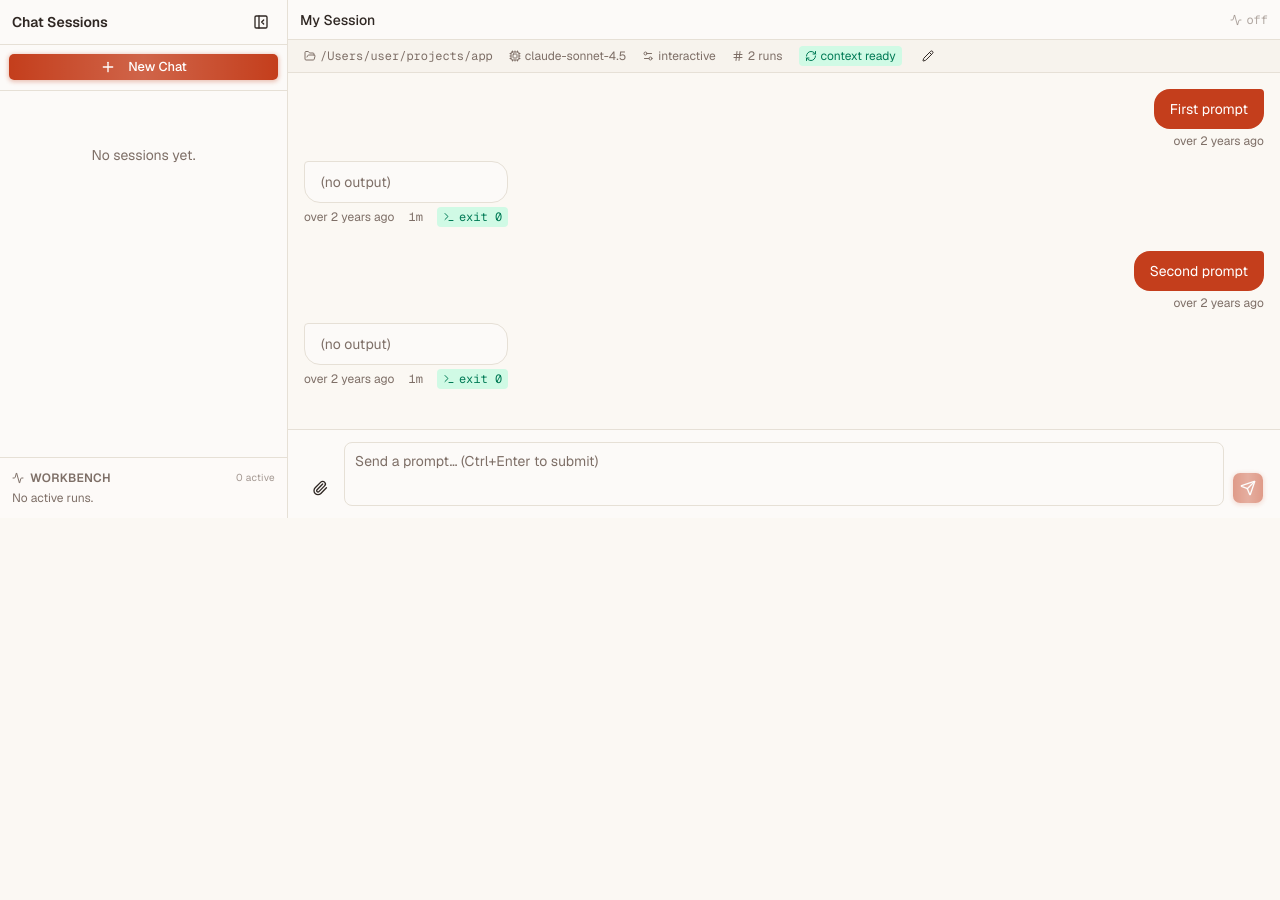
SessionCreateDialog — host picker › shows the Add host form when the add-host button is clicked
The image size is (1280, 900).
Click the button with aria-label "New chat session".
click(144, 67)  # box left=8, top=53, right=279, bottom=81
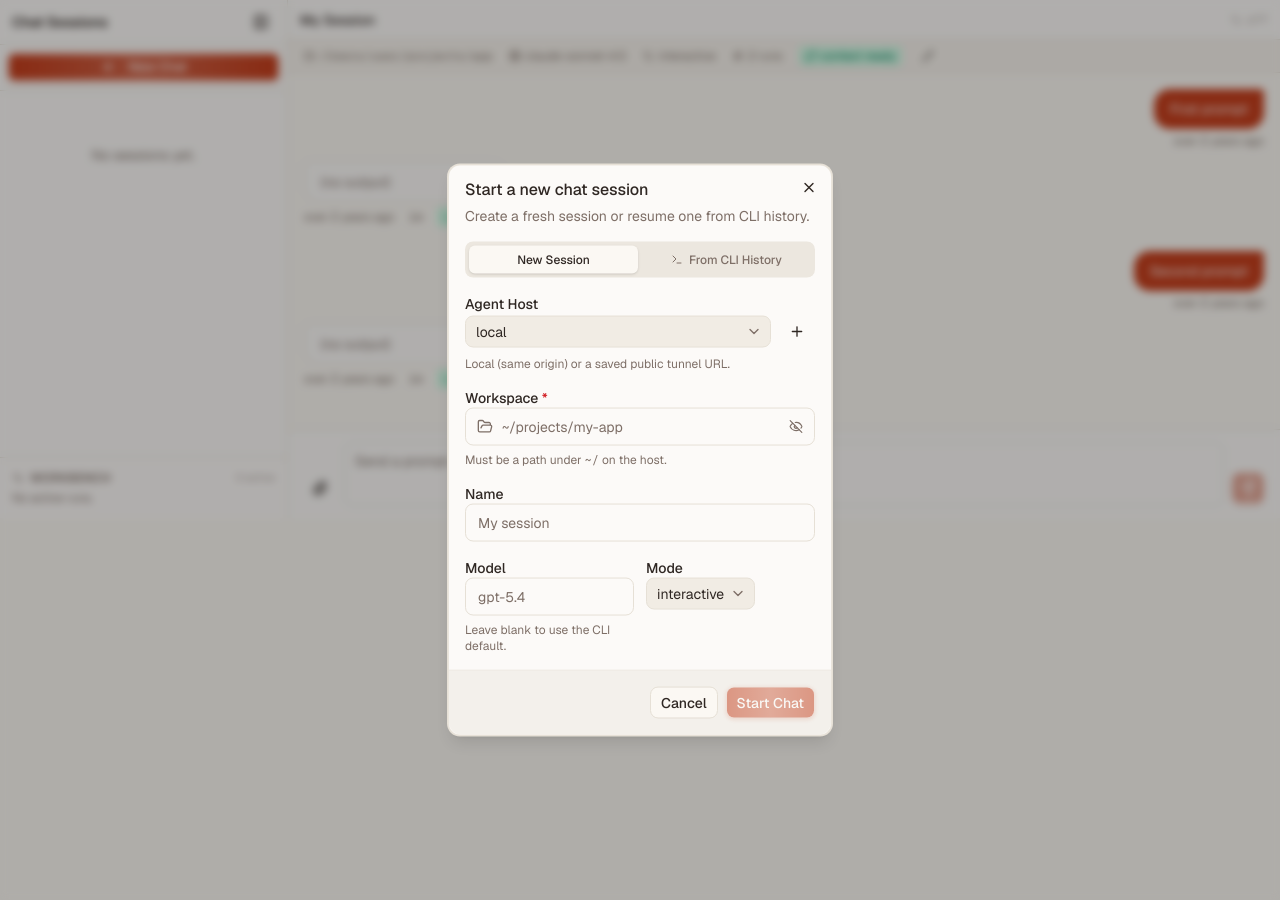
Click the button named "Add agent host".
click(797, 332)  # box left=779, top=314, right=815, bottom=350
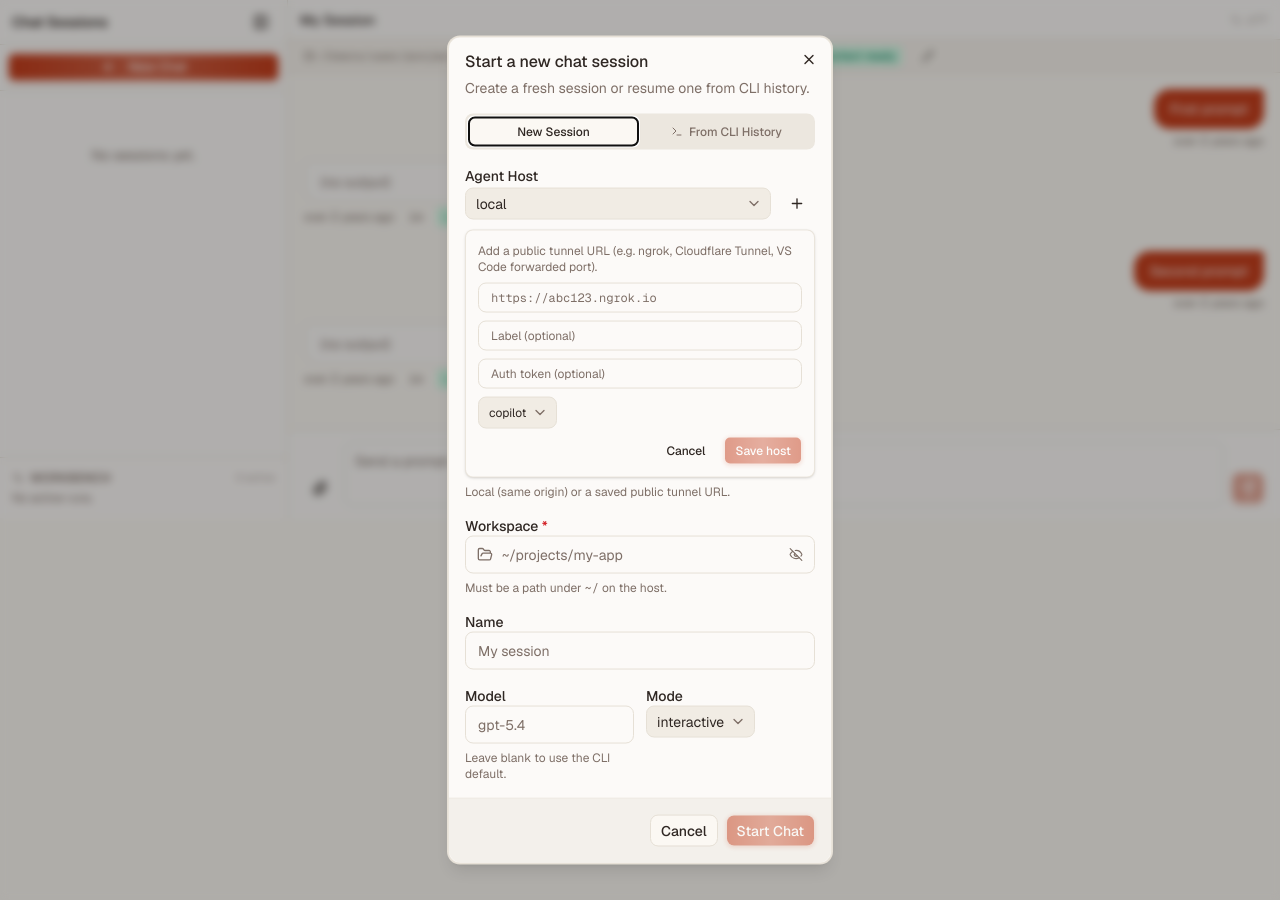
Result: the element with test id "host-add-form" is shown at left=465, top=230, right=815, bottom=478
Result: the field named "Tunnel URL" is shown at left=478, top=282, right=802, bottom=312
